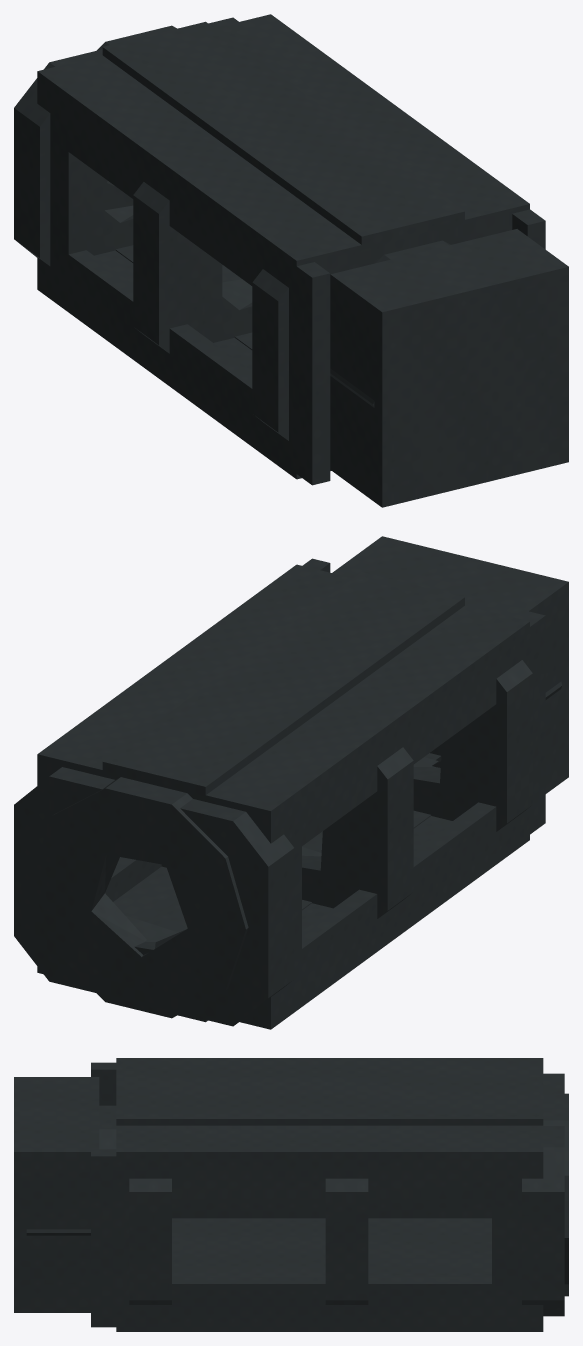
Rendered from scar_brake.glb.
The picture shows the model from 3 angles, top to bottom: view 1: azimuth 30°, elevation 25°; view 2: azimuth 150°, elevation 25°; view 3: azimuth 270°, elevation 25°; orthographic projection. The views are drawn at different scales.
Visible parts, largest first — view 1: muzzle__scar_brake_LOD1_RAID_Secondary_Original_steel, muzzle__scar_brake_LOD0_RAID_Secondary_Original_steel; view 2: muzzle__scar_brake_LOD0_RAID_Secondary_Original_steel, muzzle__scar_brake_LOD1_RAID_Secondary_Original_steel; view 3: muzzle__scar_brake_LOD1_RAID_Secondary_Original_steel, muzzle__scar_brake_LOD0_RAID_Secondary_Original_steel.
Part boxes in pixels (box(x1,y1,x2,y2)): muzzle__scar_brake_LOD1_RAID_Secondary_Original_steel: box(37, 14, 568, 507); muzzle__scar_brake_LOD0_RAID_Secondary_Original_steel: box(14, 17, 464, 440); muzzle__scar_brake_LOD0_RAID_Secondary_Original_steel: box(14, 572, 562, 1026); muzzle__scar_brake_LOD1_RAID_Secondary_Original_steel: box(37, 536, 568, 1029); muzzle__scar_brake_LOD1_RAID_Secondary_Original_steel: box(14, 1058, 543, 1331); muzzle__scar_brake_LOD0_RAID_Secondary_Original_steel: box(26, 1073, 568, 1316).
Bounding box in the file's own units: 0.0567 × 0.0501 × 0.13.
1 material, 1 textured.
